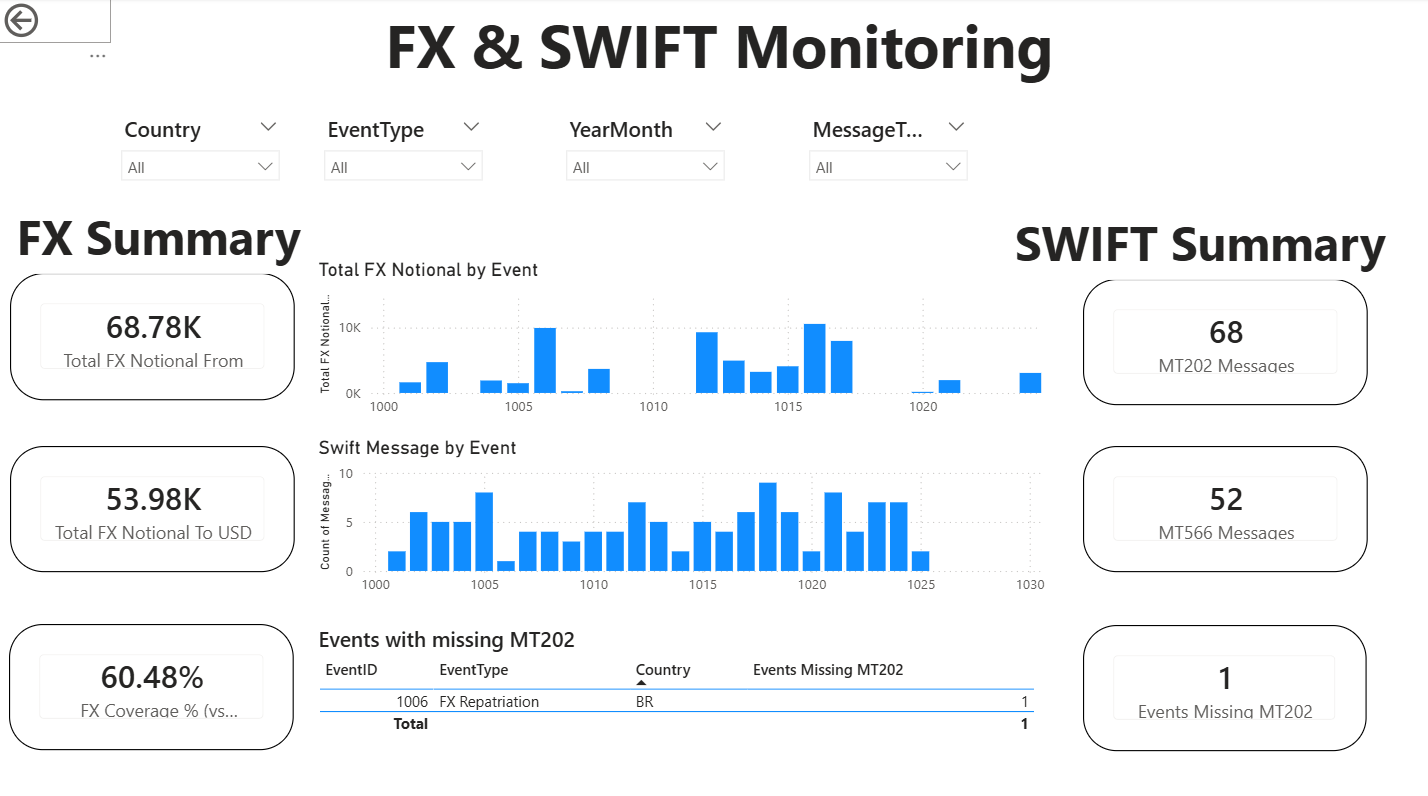

What the dashboard file says about the page in this screenshot:
{"tool":"powerbi","page":{"name":"FX & SWIFT Monitoring","canvas":[1280,720],"ordinal":2},"visuals":[{"type":"textbox","box":[9.7,0,1270.3,102.1],"z":0},{"type":"cardVisual","fields":{"Data":["Fx_Bookings.Total FX Notional From"]},"box":[10.1,246.7,255.4,114],"z":1000},{"type":"cardVisual","fields":{"Data":["Fx_Bookings.Total FX Notional To USD"]},"box":[10.1,401.1,255.4,112.5],"z":2000},{"type":"cardVisual","fields":{"Data":["Fx_Bookings.FX Coverage % (vs Payment LCY)"]},"box":[8.7,560.8,255.2,112.9],"z":3000},{"type":"cardVisual","fields":{"Data":["Swift_Messages.MT202 Messages"]},"box":[970.6,251.8,255.2,112.9],"z":4000},{"type":"cardVisual","fields":{"Data":["Swift_Messages.MT566 Messages"]},"box":[970.6,401.1,255.2,112.9],"z":5000},{"type":"cardVisual","fields":{"Data":["Events.Events Missing MT202"]},"box":[971,561.2,253.9,112.5],"z":6000},{"type":"columnChart","title":"Total FX Notional by Event","fields":{"Category":["Fx_Bookings.EventID"],"Y":["Fx_Bookings.Total FX Notional From"]},"box":[281.3,232.7,661.5,151.1],"z":7000},{"type":"columnChart","title":"Swift Message by Event","fields":{"Category":["Swift_Messages.EventID"],"Y":["CountNonNull(Swift_Messages.MessageType)"]},"box":[281.3,392.4,661.5,151.1],"z":8000},{"type":"tableEx","title":"Events with missing MT202","fields":{"Values":["Events.EventID","Events.EventType","Entitlements.Country","Events.Events Missing MT202"]},"box":[281.3,561.2,660.8,158.7],"z":9000},{"type":"actionButton","box":[0,0,100,40],"z":10000},{"type":"textbox","box":[10.4,178.8,270.9,67.7],"z":11000},{"type":"textbox","box":[893.1,184.7,363.6,67.8],"z":12000},{"type":"slicer","fields":{"Values":["Events.EventType"]},"box":[281.3,99.6,161.6,73.6],"z":13000},{"type":"slicer","fields":{"Values":["Events.Country"]},"box":[99.6,99.6,161.6,73.6],"z":14000},{"type":"slicer","fields":{"Values":["DimDate.YearMonth"]},"box":[497.8,99.6,161.6,73.6],"z":15000},{"type":"slicer","fields":{"Values":["Swift_Messages.MessageType"]},"box":[715.6,99.6,161.6,73.6],"z":16000}]}

Visuals, with their boxes on the page's 1280x720 design canvas (x1, y1, x2, y2). These are canvas units, not pixel positions in the 1428x796 screenshot, which may show the page scaled, cropped or inside an application window:
textbox: <box>10,0,1280,102</box>
cardVisual - Fx_Bookings.Total FX Notional From: <box>10,247,266,361</box>
cardVisual - Fx_Bookings.Total FX Notional To USD: <box>10,401,266,514</box>
cardVisual - Fx_Bookings.FX Coverage % (vs Payment LCY): <box>9,561,264,674</box>
cardVisual - Swift_Messages.MT202 Messages: <box>971,252,1226,365</box>
cardVisual - Swift_Messages.MT566 Messages: <box>971,401,1226,514</box>
cardVisual - Events.Events Missing MT202: <box>971,561,1225,674</box>
"Total FX Notional by Event" columnChart: <box>281,233,943,384</box>
"Swift Message by Event" columnChart: <box>281,392,943,544</box>
"Events with missing MT202" tableEx: <box>281,561,942,720</box>
actionButton: <box>0,0,100,40</box>
textbox: <box>10,179,281,246</box>
textbox: <box>893,185,1257,252</box>
slicer - Events.EventType: <box>281,100,443,173</box>
slicer - Events.Country: <box>100,100,261,173</box>
slicer - DimDate.YearMonth: <box>498,100,659,173</box>
slicer - Swift_Messages.MessageType: <box>716,100,877,173</box>
